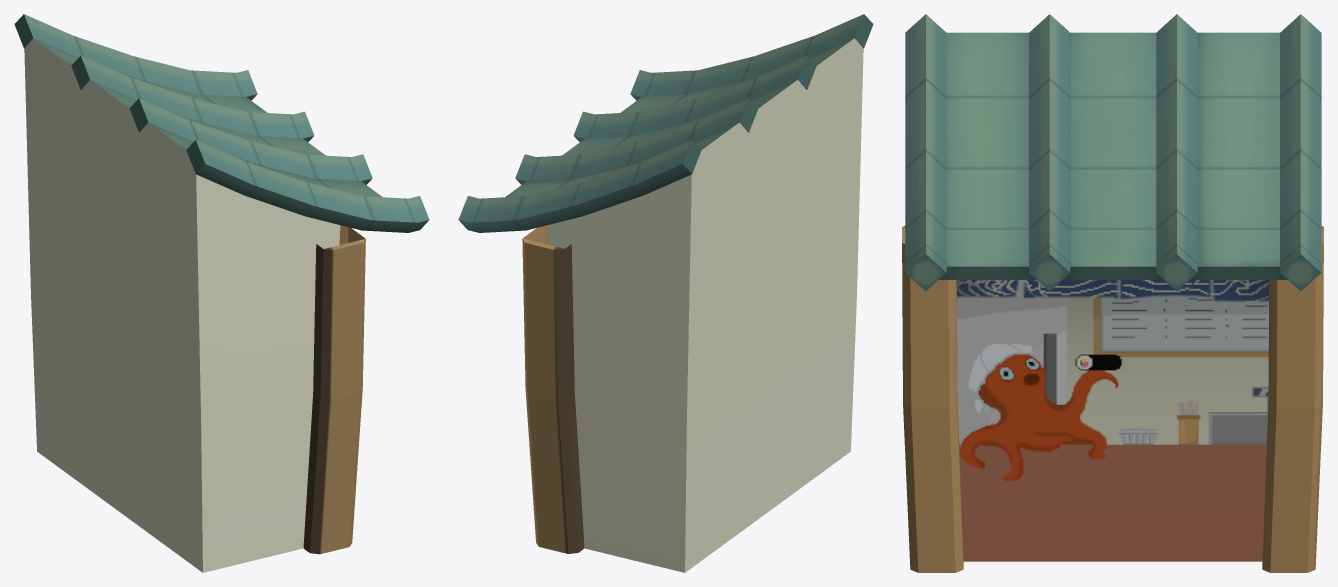
Rendered from FS_TempleTopStore.fbx.
3 views of the same model, side by side, from view 1: azimuth 30°, elevation 25°; view 2: azimuth 150°, elevation 25°; view 3: azimuth 270°, elevation 25° (orthographic). The views are drawn at different scales.
Parts seen in each view (by area): view 1: shop3, pillars, roof_thing1, roof_thing4, roof_thing3, roof_thing2, roof3; view 2: shop3, pillars, roof_thing4, roof_thing1, roof_thing2, roof_thing3, roof3; view 3: shop3, roof3, pillars, roof_thing3, roof_thing1, roof_thing2, roof_thing4.
Boxes of the visible parts, <box> form: shop3: <box>24,38,340,572</box>; pillars: <box>303,225,365,554</box>; roof_thing1: <box>186,140,429,232</box>; roof_thing4: <box>14,14,257,100</box>; roof_thing3: <box>71,55,314,141</box>; roof_thing2: <box>129,98,372,184</box>; roof3: <box>34,38,382,197</box>; shop3: <box>547,38,863,572</box>; pillars: <box>522,225,584,553</box>; roof_thing4: <box>458,140,701,232</box>; roof_thing1: <box>630,14,873,100</box>; roof_thing2: <box>573,55,816,141</box>; roof_thing3: <box>515,98,758,184</box>; roof3: <box>505,38,853,197</box>; shop3: <box>956,280,1269,561</box>; roof3: <box>939,32,1287,279</box>; pillars: <box>902,226,1323,572</box>; roof_thing3: <box>1156,14,1197,291</box>; roof_thing1: <box>905,14,946,291</box>; roof_thing2: <box>1029,14,1070,291</box>; roof_thing4: <box>1280,14,1321,291</box>.
Size of the model in its own units: 84.81 by 158 by 127.
1 material, 1 textured.
